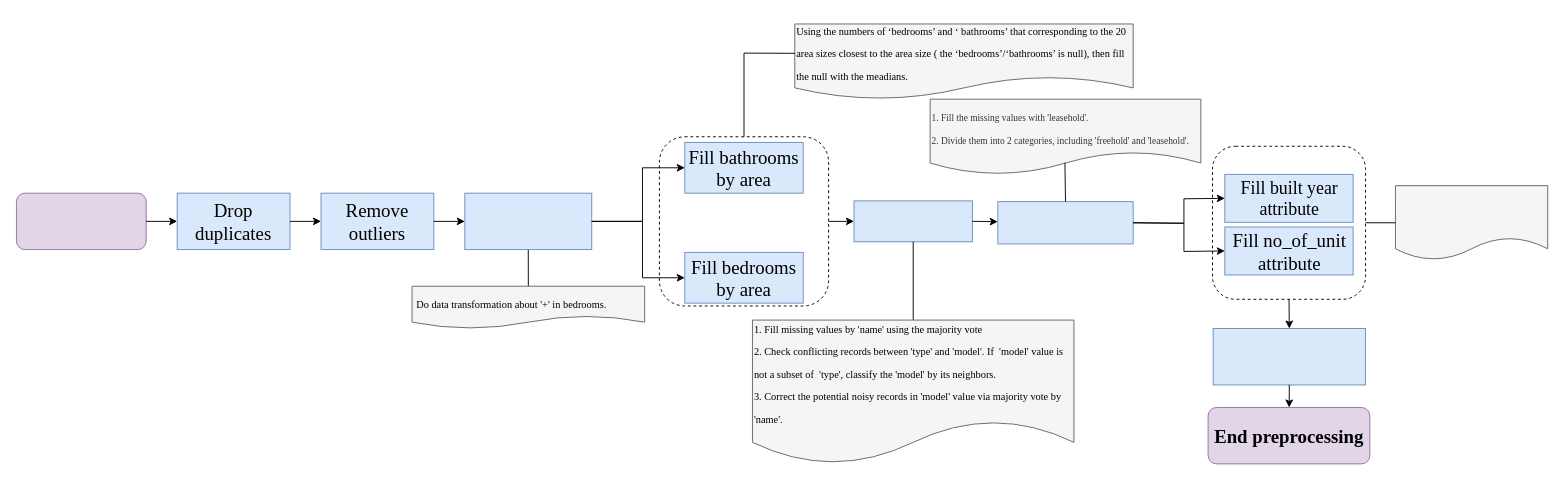
The diagram is 1564 pixels wide and 480 high, and some of its shapes have lost their labels. Each missing label, with the centre of its shape:
Classify tenure: point (1065, 222)
Combine type and model: point (912, 221)
Drop irrelevant attributes: point (1288, 356)
Fill the missing values according to 'name', 'street', and 'distinct': point (1471, 222)
Inconsisitency cleaning: point (528, 221)
Start preprocessing: point (81, 221)
